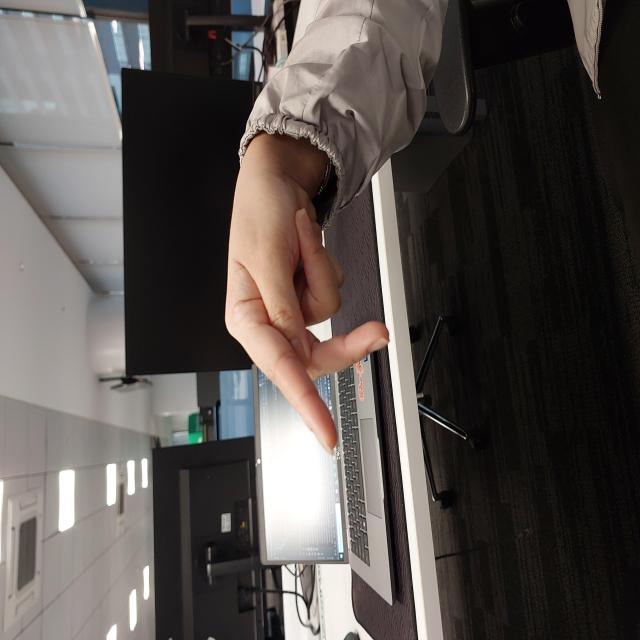P: (186, 224, 468, 390)
